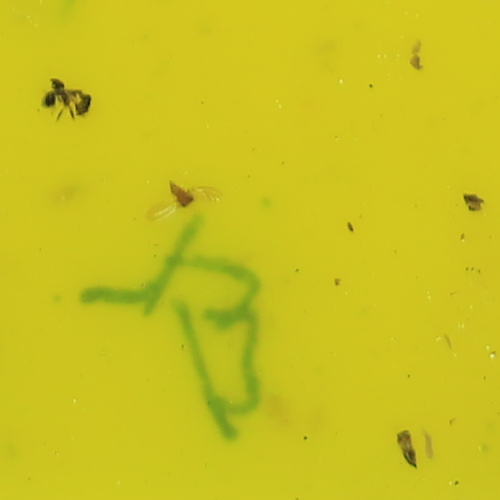psylla: (172, 181, 197, 209)
